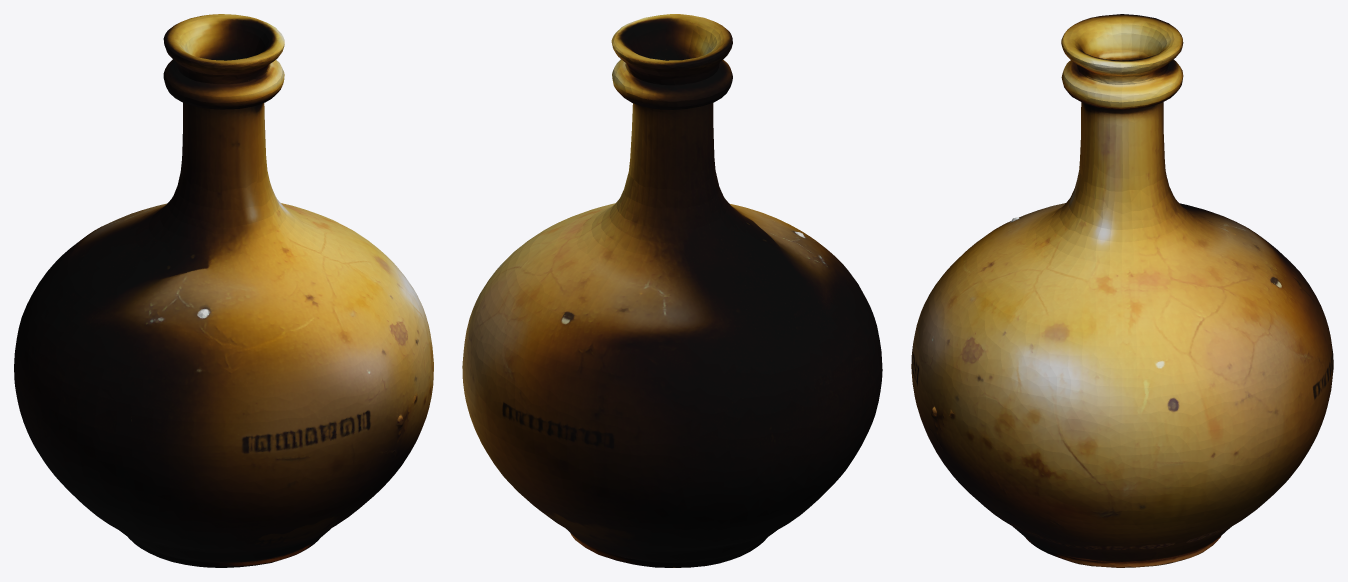
The model's file is ceramic-decanter-used-rustic-worn.jpeg.glb.
The picture shows the model from 3 angles, left to right: view 1: azimuth 30°, elevation 25°; view 2: azimuth 150°, elevation 25°; view 3: azimuth 270°, elevation 25°; orthographic projection.
Visible parts, largest first — view 1: world; view 2: world; view 3: world.
Boxes of the visible parts, left/top/right/bottom form: world: left=14, top=14, right=433, bottom=567; world: left=462, top=14, right=882, bottom=567; world: left=911, top=14, right=1333, bottom=567.
Size of the model in its own units: 0.7837 by 0.9999 by 0.7834.
1 material, 1 textured.
